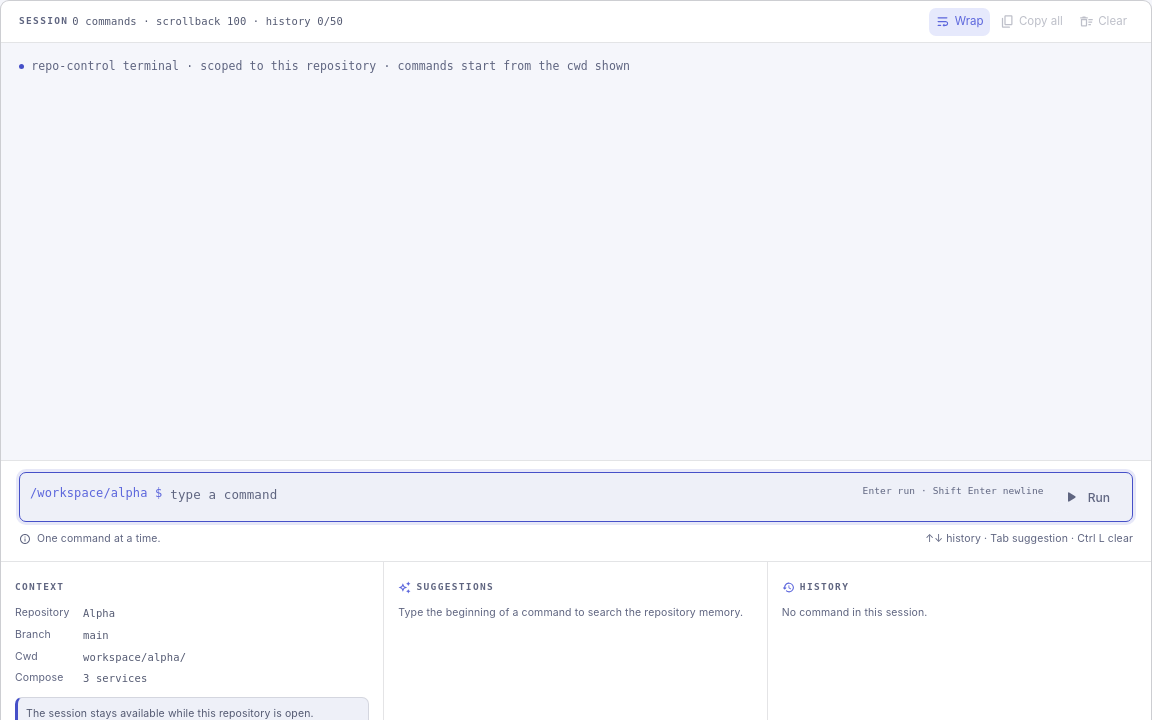
Scenario: TerminalPanel › cancels the active command from the terminal toolbar
Type "npm test" into the text box with placeholder "type a command" at (512, 495), box [170,485,855,504]
Then press Enter
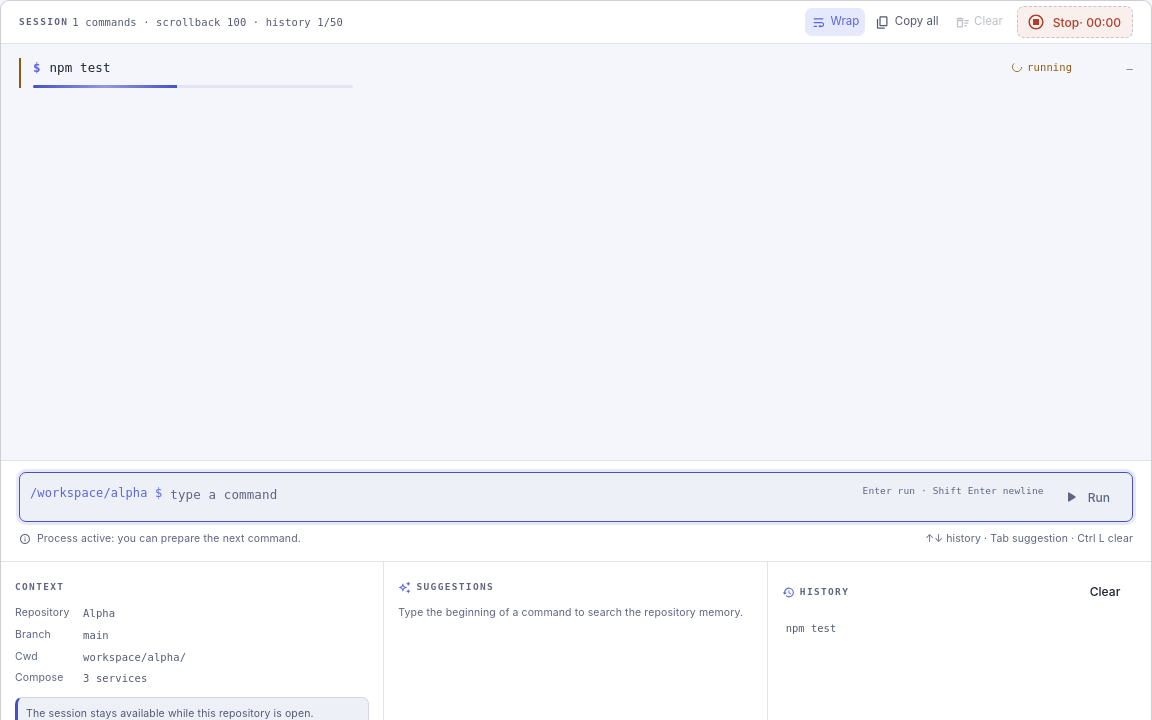
Click the button with aria-label "Stop command" at (1075, 22), box [1017,6,1133,38]
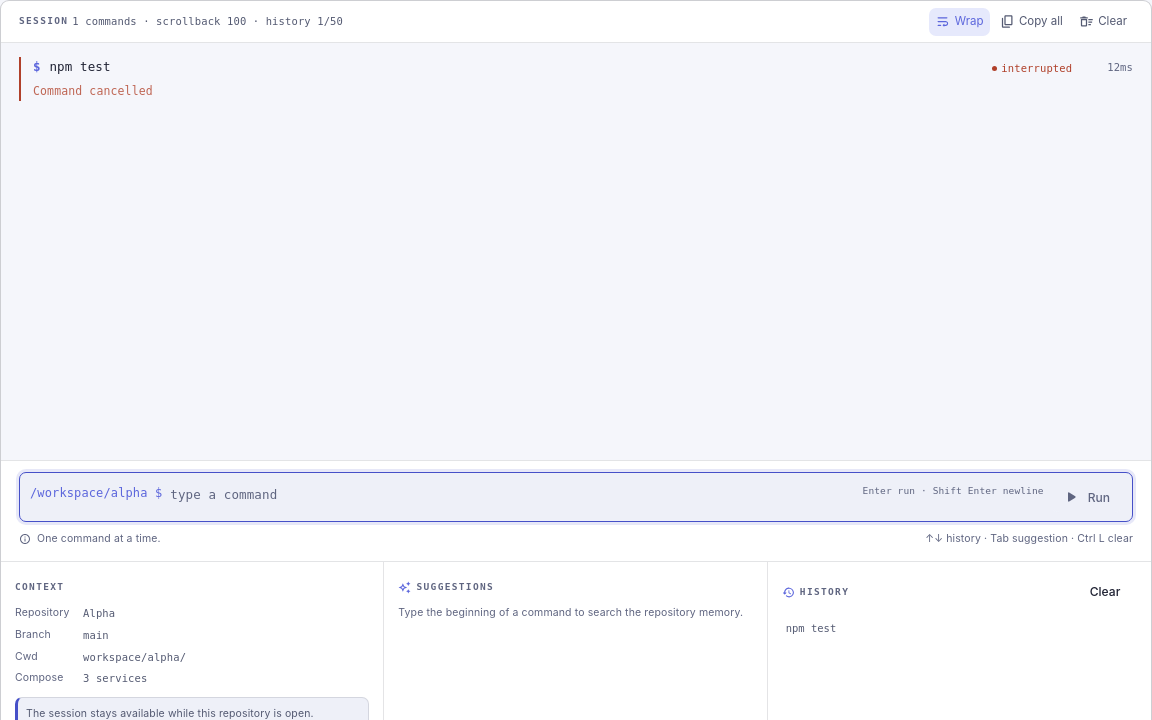
Now the text "Command cancelled" is shown, box [33,84,153,98]
Now the text "interrupted" is shown, box [1001,60,1072,77]
